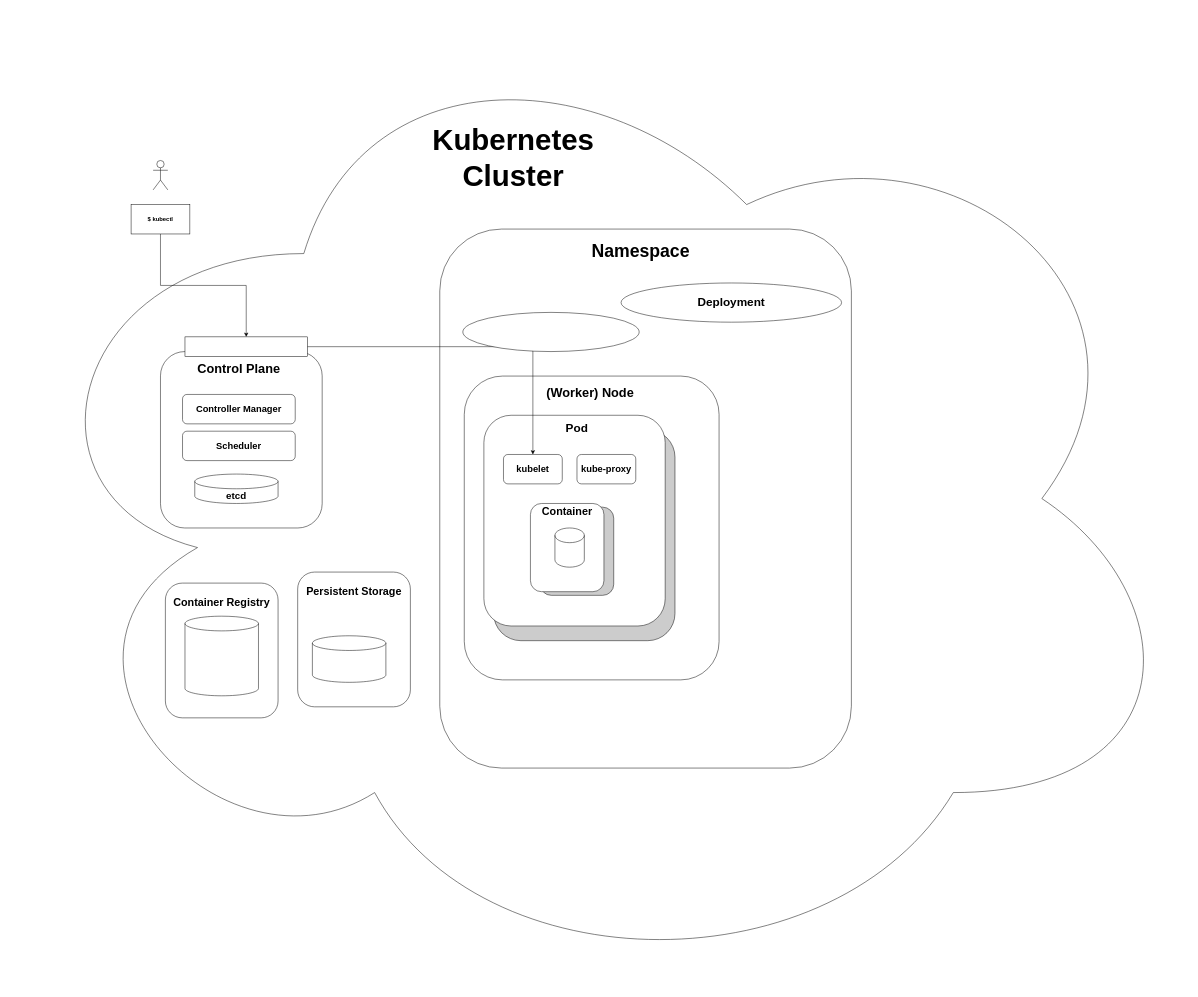
Image size: 1198x997. Some labels were removed from this diagram. Here are the shapes that lost their labels. From the top down, the centre of each, then its label:
At (160,175): "User".
At (245,346): "ReST API".
At (550,332): "Service".
At (569,547): "Image".
